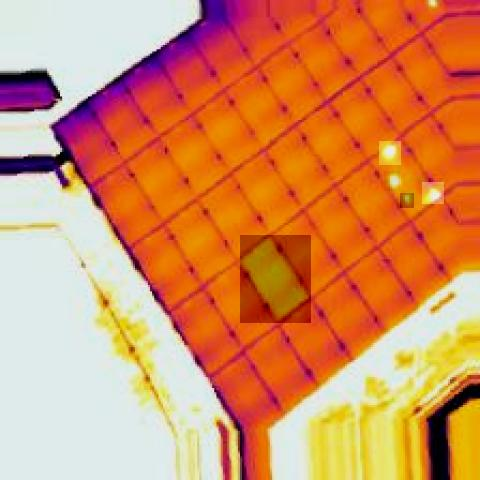fault: (240, 236, 311, 324), (379, 141, 401, 165), (422, 182, 444, 204), (384, 171, 400, 191), (420, 2, 444, 15), (400, 193, 414, 208)
